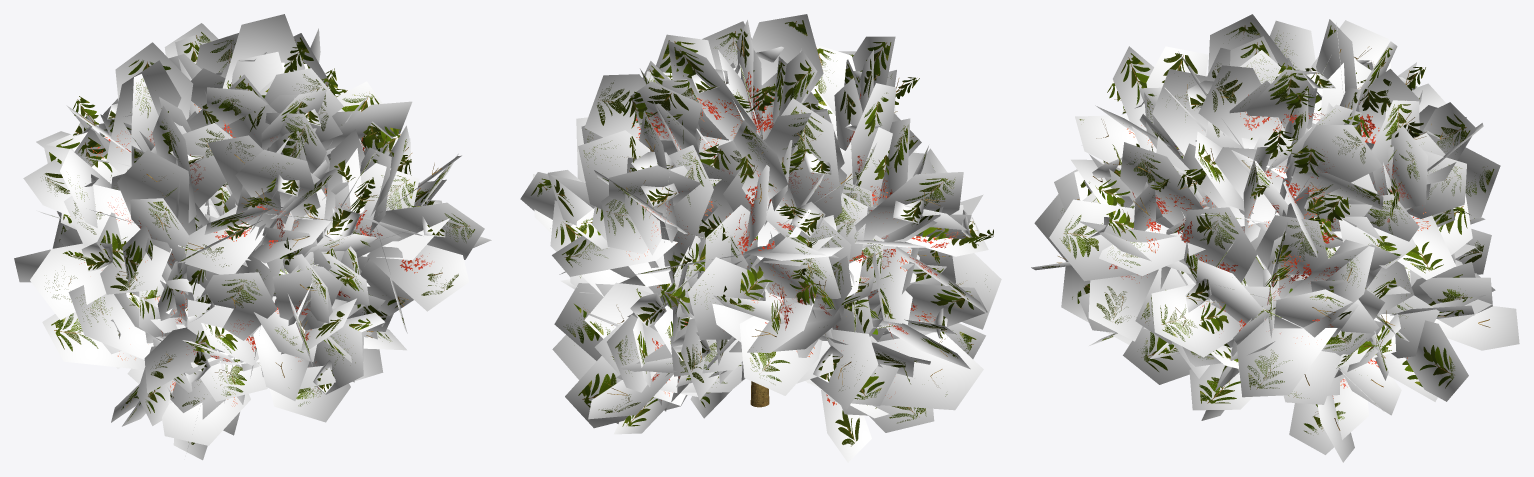
The model's file is geranium2.glb.
The picture shows the model from 3 angles, left to right: view 1: azimuth 30°, elevation 25°; view 2: azimuth 150°, elevation 25°; view 3: azimuth 270°, elevation 25°; orthographic projection. The views are drawn at different scales.
Visible parts, largest first — view 1: geranium2; view 2: geranium2; view 3: geranium2.
Boxes of the visible parts, left/top/right/bottom form: geranium2: left=14, top=14, right=491, bottom=460; geranium2: left=520, top=14, right=1001, bottom=462; geranium2: left=1031, top=14, right=1519, bottom=462.
Size of the model in its own units: 2.53 by 2.27 by 2.57.
3 materials, 2 textured.
